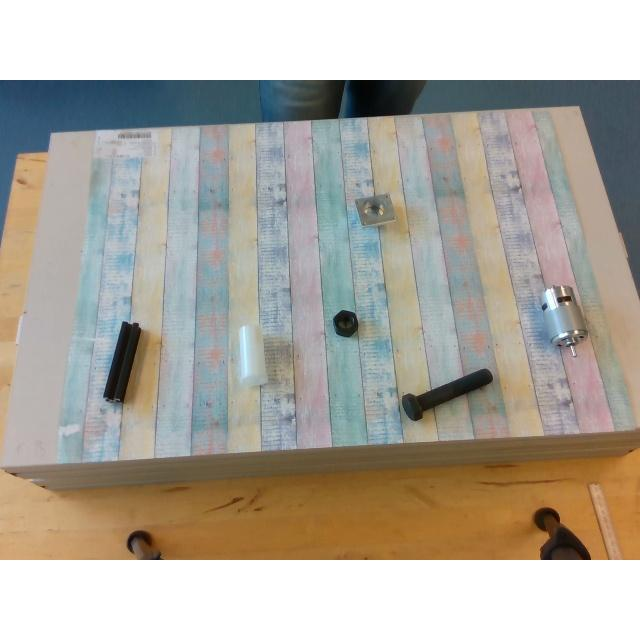F20_20_B: (104, 320, 140, 400)
M20: (333, 310, 357, 334)
M20_100: (401, 368, 491, 419)
Motor2: (541, 284, 587, 346)
Spacer: (237, 322, 269, 388)
